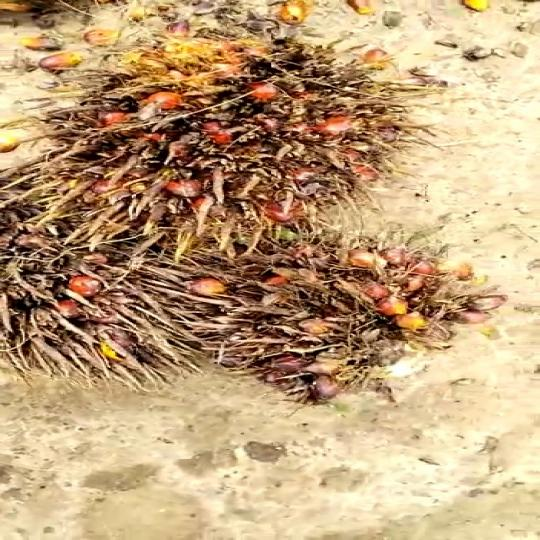terlalu masak: (15, 18, 439, 232), (169, 238, 504, 405)
